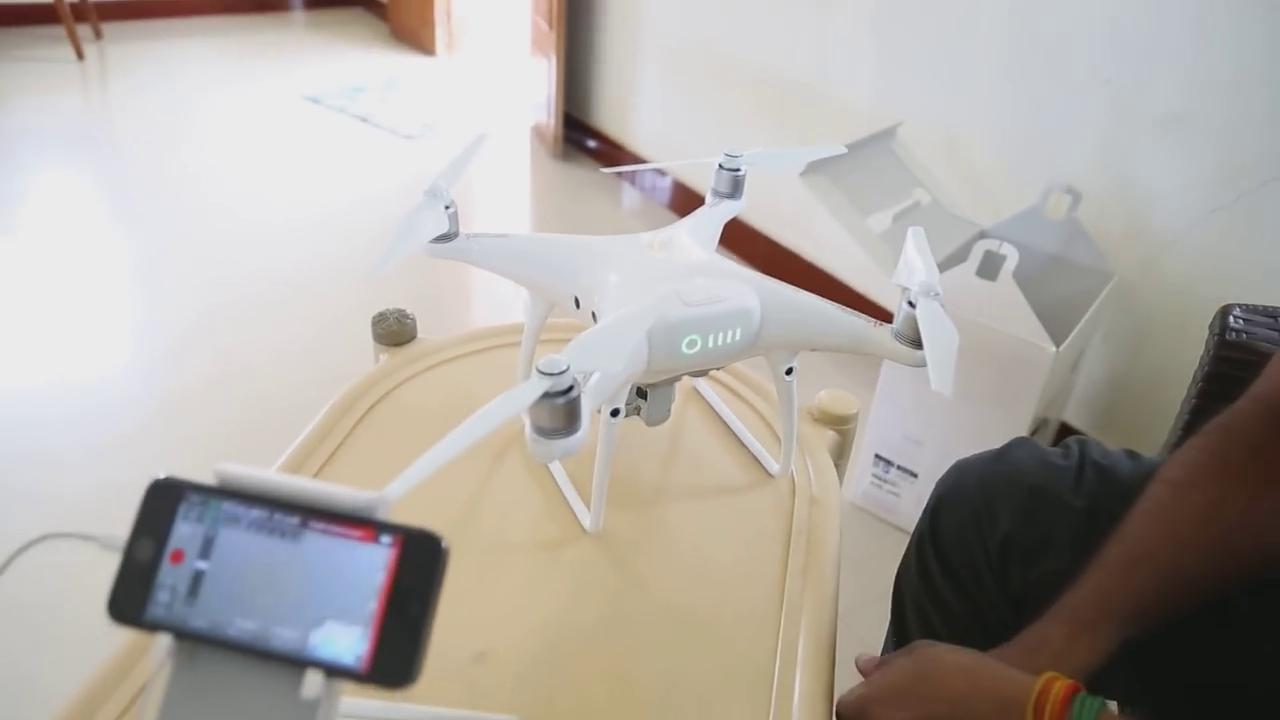drone: (340, 119, 966, 541)
